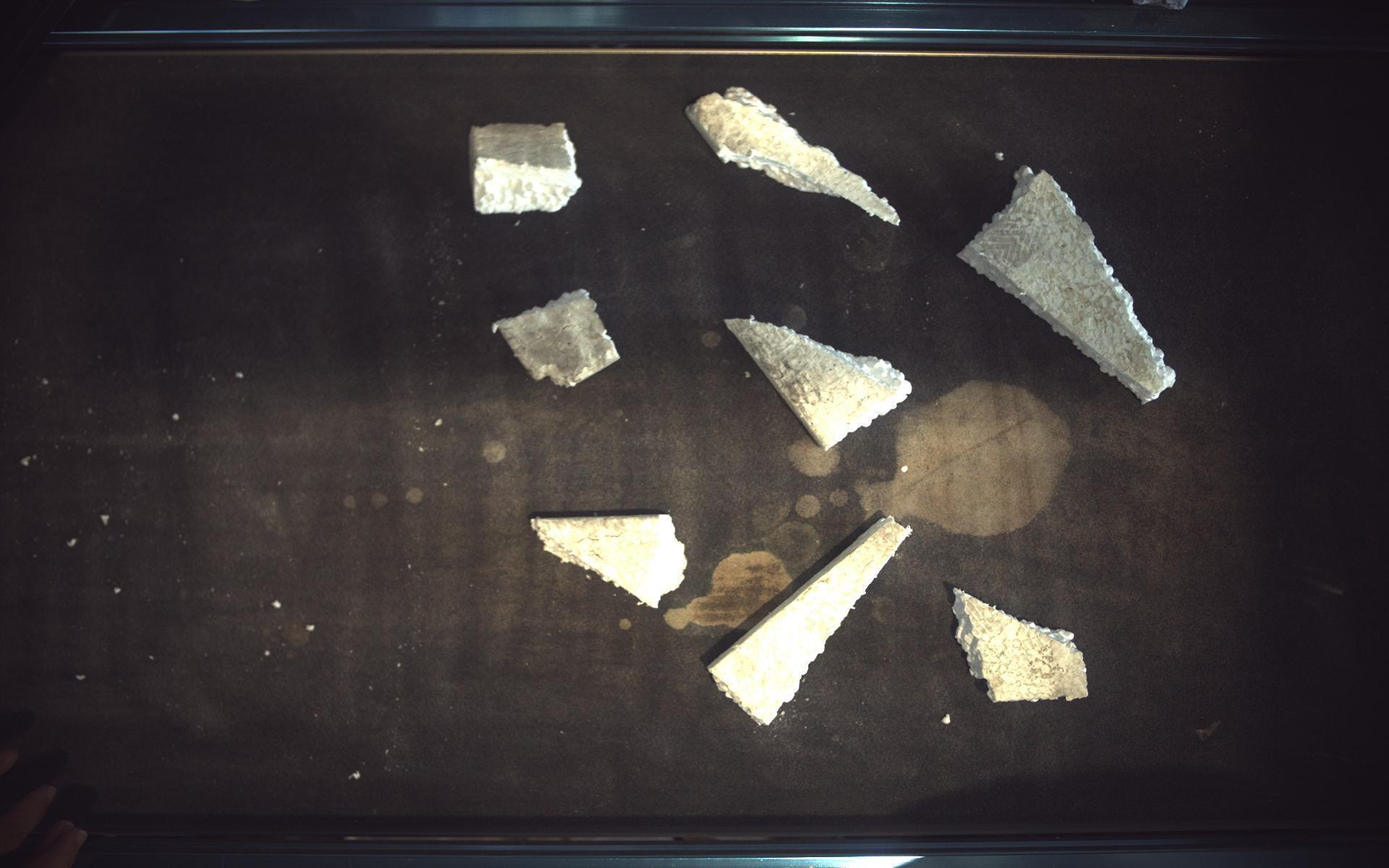foam: (961, 165, 1177, 402), (708, 517, 912, 726), (687, 86, 902, 224), (726, 316, 914, 451), (955, 589, 1090, 703), (532, 516, 688, 609), (493, 289, 621, 387), (470, 122, 582, 213)
